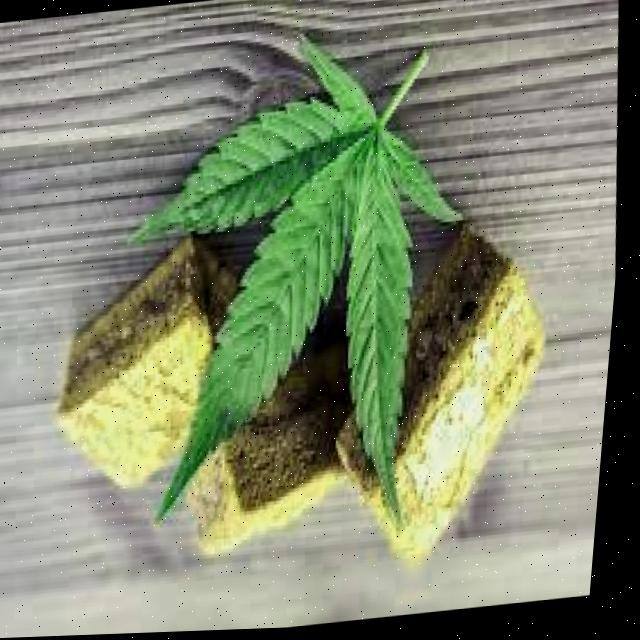cannabis: (128, 29, 466, 520)
